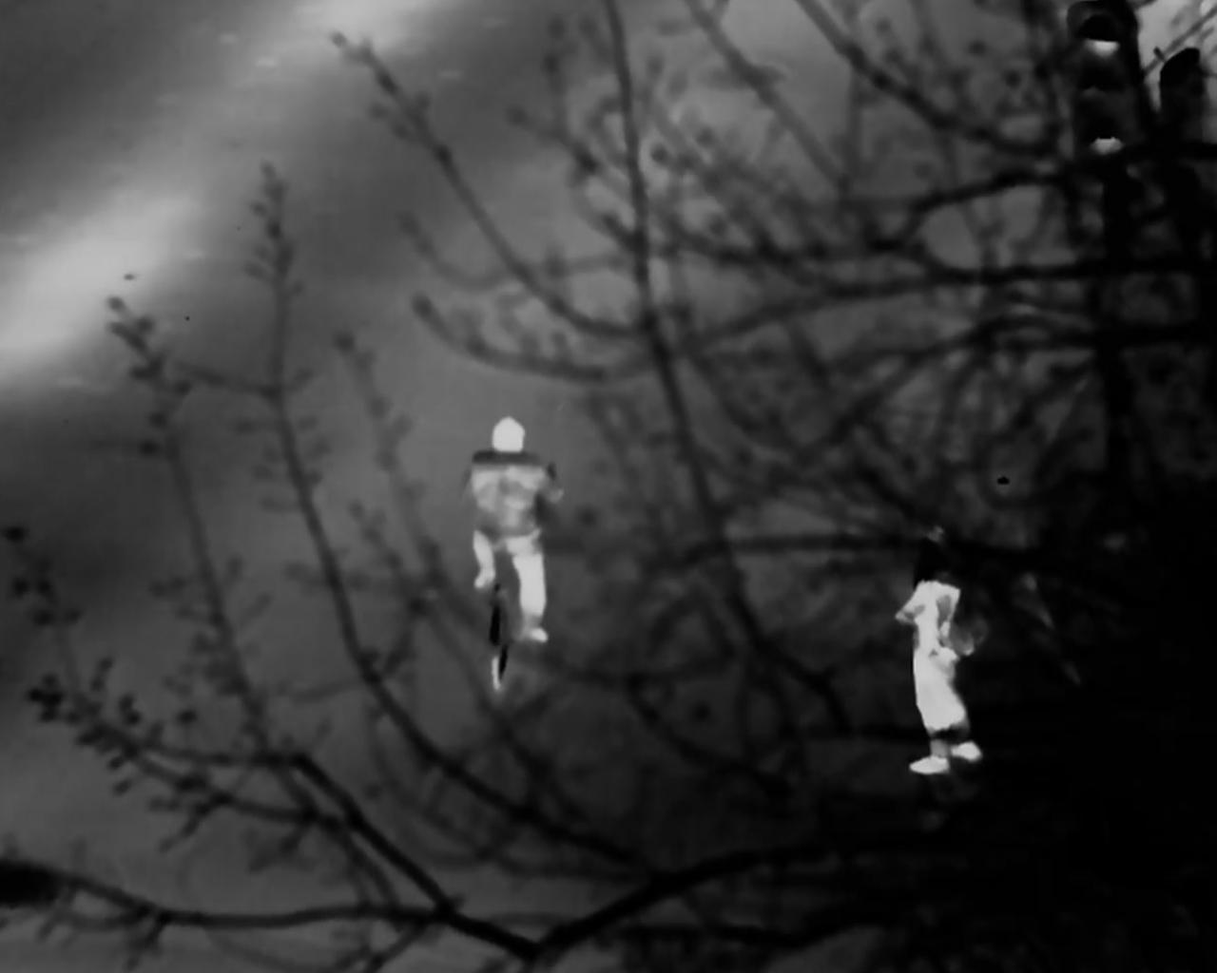person: (456, 414, 565, 666), (897, 532, 992, 768)
